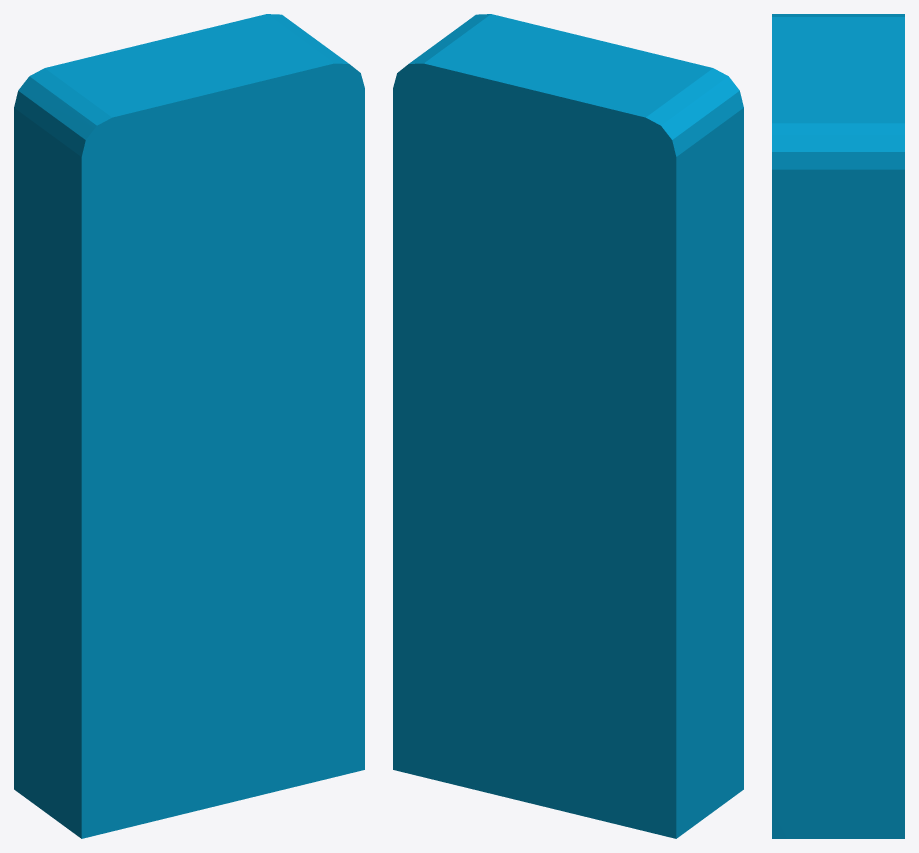
Rendered from simple_example_hole_part_64.obj.
3 views of the same model, side by side, from view 1: azimuth 30°, elevation 25°; view 2: azimuth 150°, elevation 25°; view 3: azimuth 270°, elevation 25° (orthographic).
Size of the model in its own units: 1.85 by 4.46 by 0.7651.
